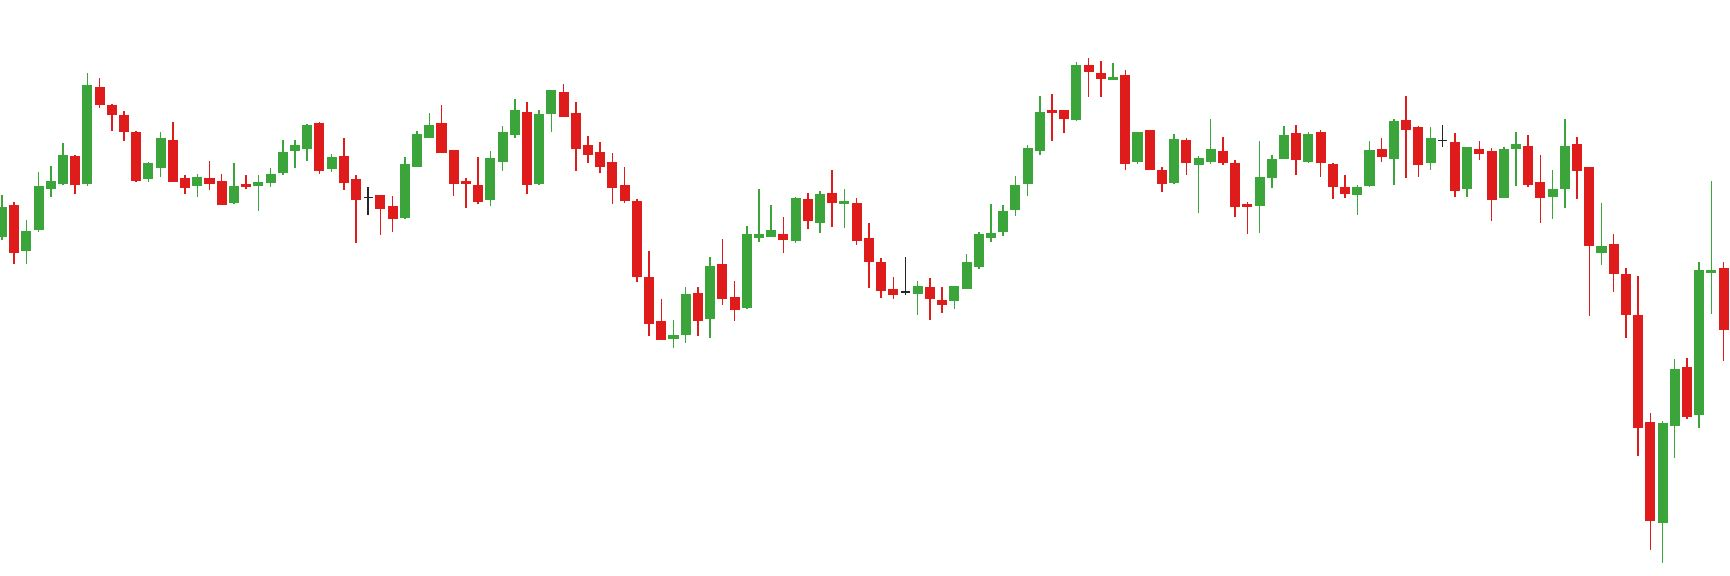buy: (253, 153, 373, 243)
sell: (1510, 118, 1583, 202)
